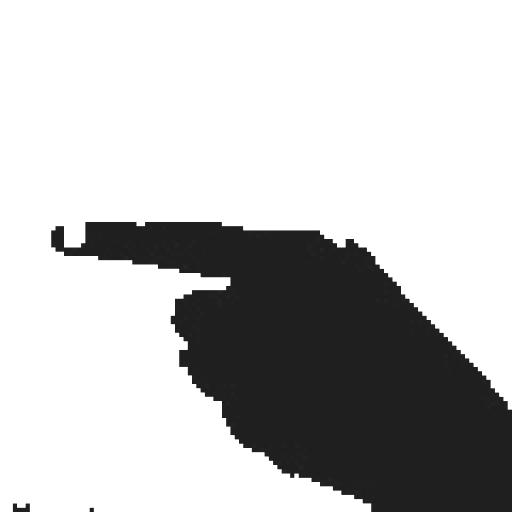index_left: (47, 213, 512, 512)
